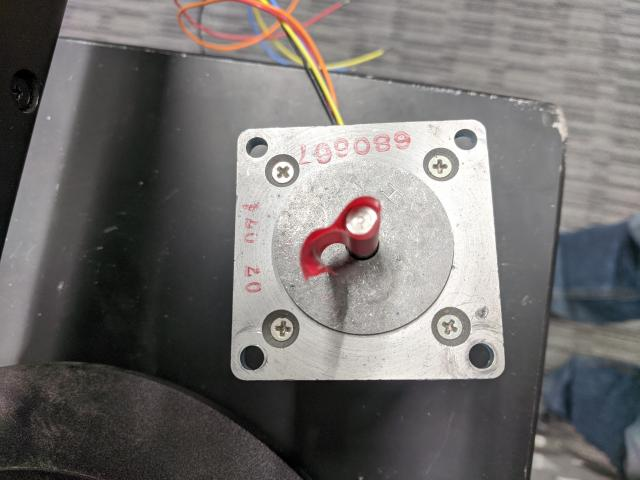CRS: (269, 316, 296, 342), (428, 155, 456, 179), (271, 159, 295, 184), (437, 314, 462, 338)
